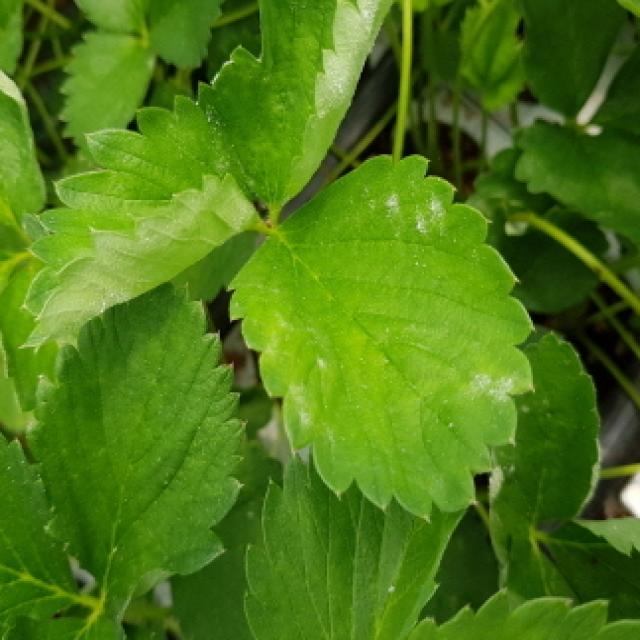Powdery Mildew Leaf: (225, 155, 535, 524), (17, 93, 265, 352), (196, 0, 392, 216)
